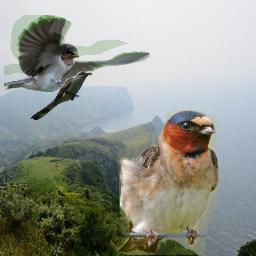Cuckoo: (30, 71, 92, 120)
Swallow: (116, 110, 222, 255), (4, 15, 150, 92)
